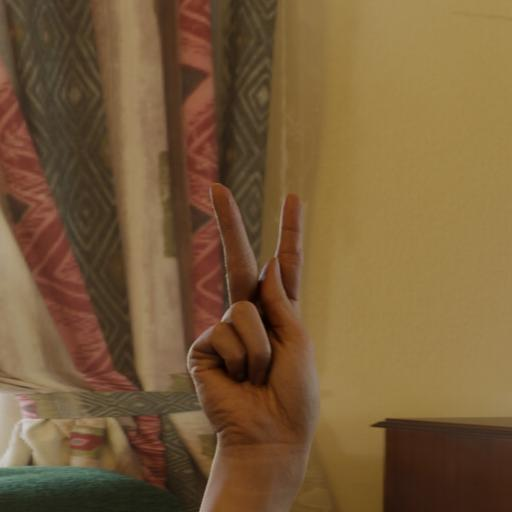K: (184, 179, 329, 450)
